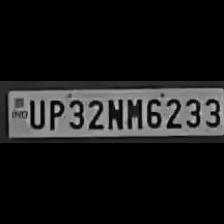2: (85, 96, 103, 130), (164, 95, 182, 129)
3: (182, 94, 200, 128), (202, 94, 220, 128), (66, 96, 84, 128)
6: (142, 95, 162, 129)
M: (124, 94, 142, 130)
N: (105, 95, 123, 131)
P: (46, 96, 62, 130)
U: (26, 97, 44, 129)
